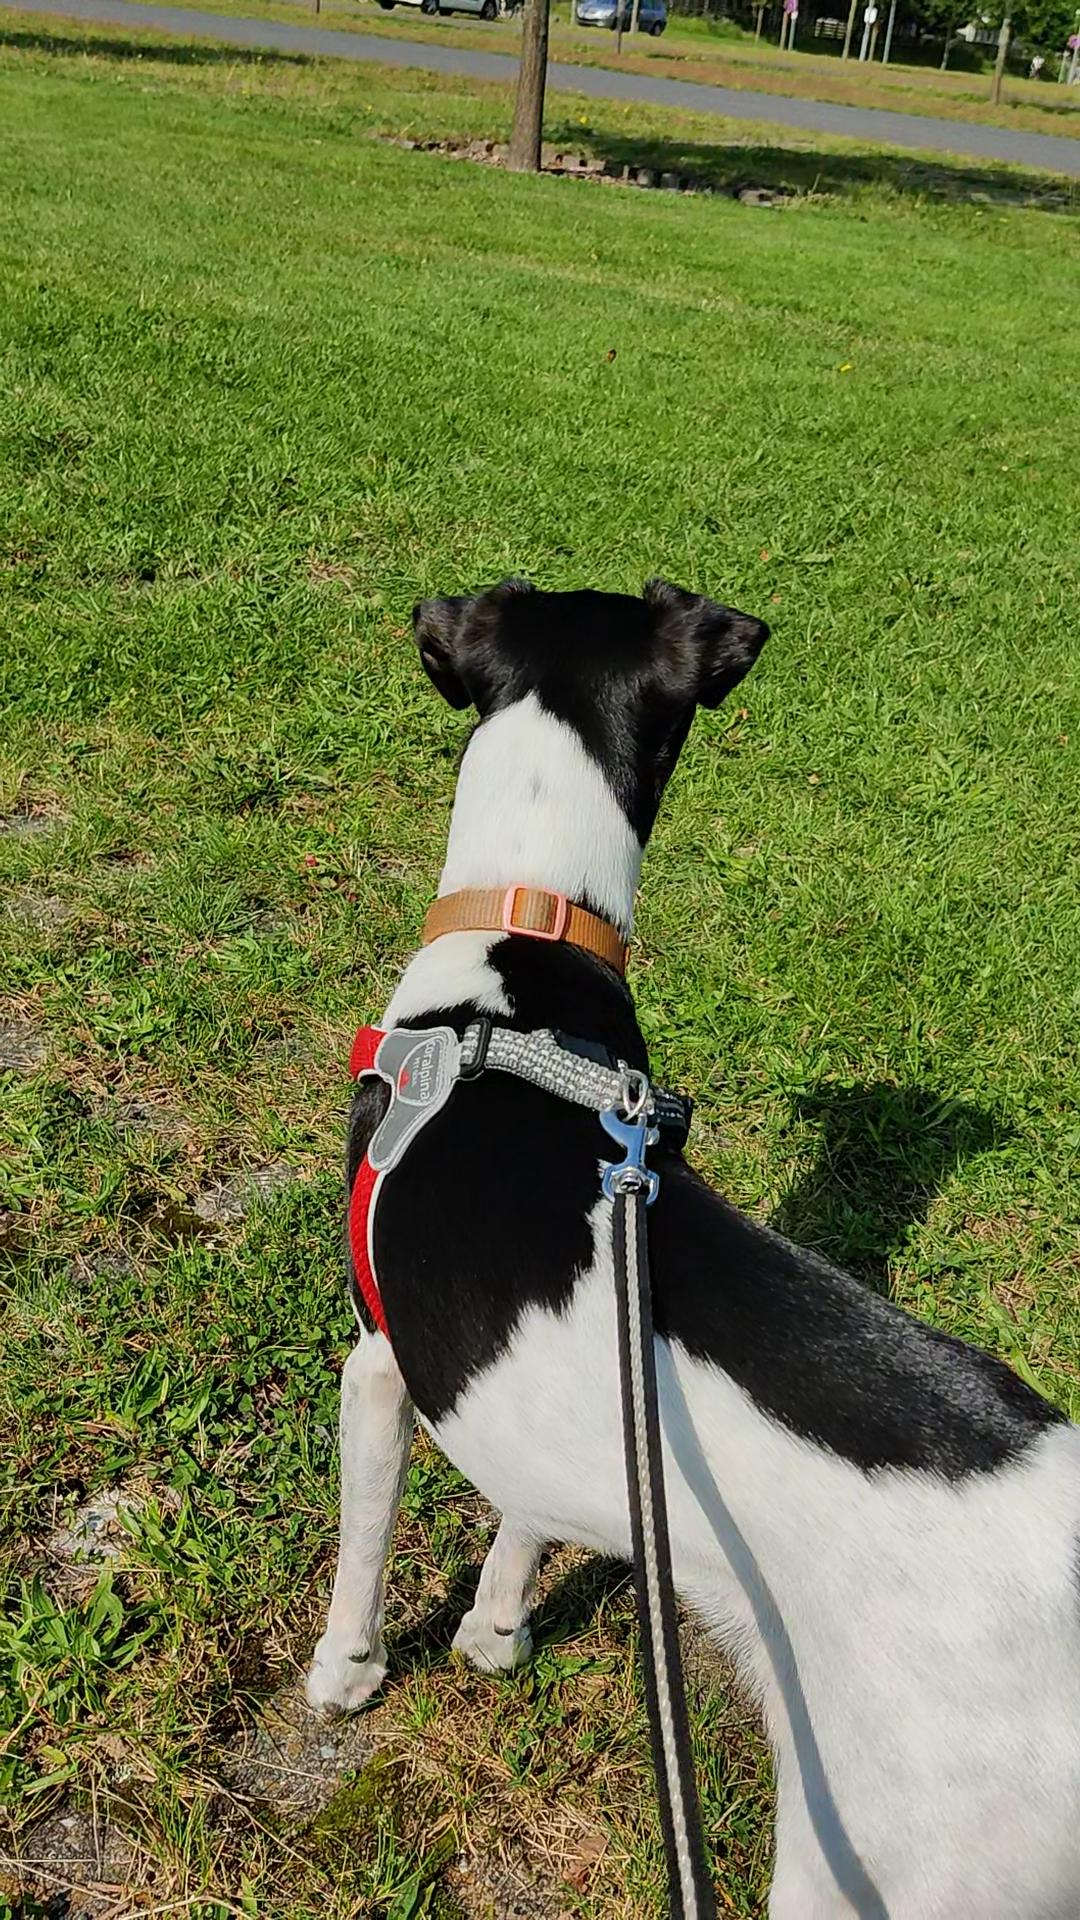Dog: (249, 518, 1079, 1919)
